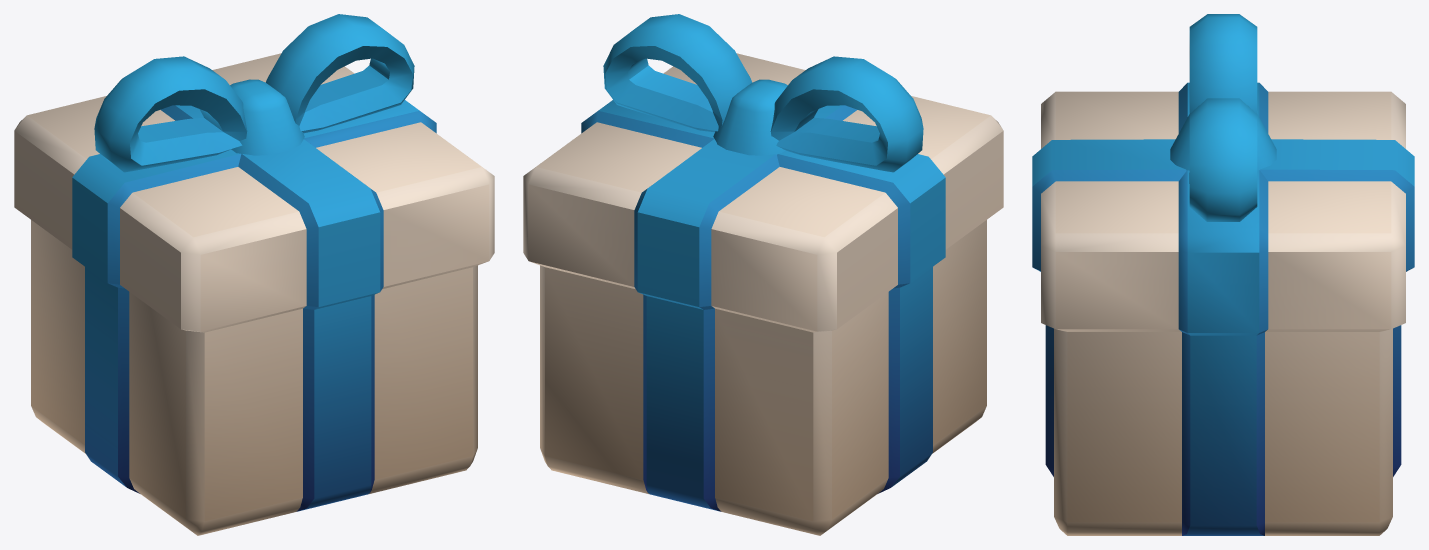
The model's file is present_A_white.obj.
3 renders of one model, left to right at view 1: azimuth 30°, elevation 25°; view 2: azimuth 150°, elevation 25°; view 3: azimuth 270°, elevation 25°, orthographic.
Parts seen in each view (by area): view 1: present_A_white; view 2: present_A_white; view 3: present_A_white.
Boxes of the visible parts, x1=… form: present_A_white: x1=14, y1=14, x2=494, y2=535; present_A_white: x1=523, y1=14, x2=1003, y2=535; present_A_white: x1=1032, y1=14, x2=1414, y2=535.
Bounding box in the file's own units: 0.5637 × 0.6617 × 0.5638.
1 material, 1 textured.
